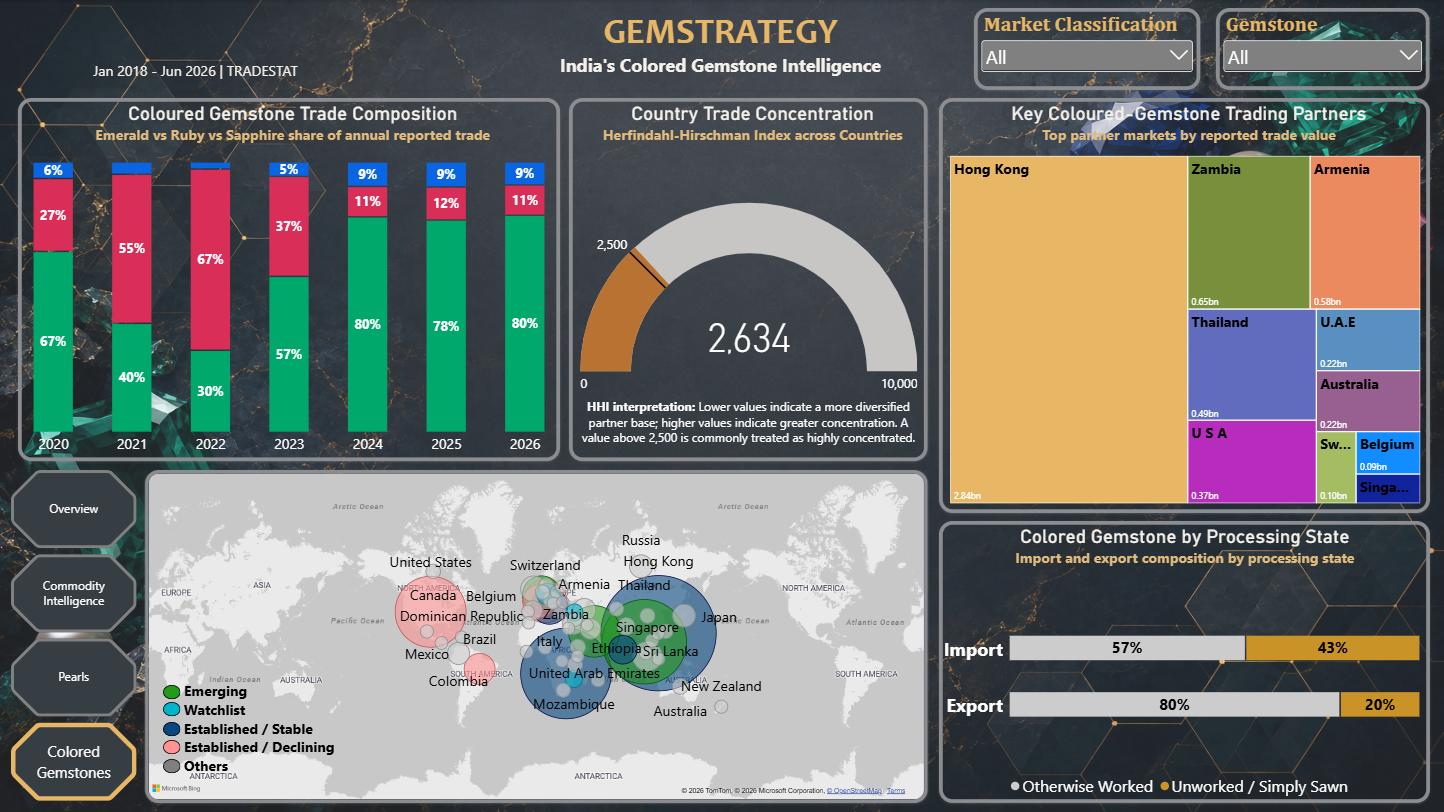

Layout of this report page (visuals, bound fields, positions):
{"tool":"powerbi","page":{"name":"Colored Gemstones","canvas":[1920,1080],"ordinal":3},"visuals":[{"type":"map","fields":{"Category":["Dim_Country.map_display_name"],"Size":["Measure.Market Value LY (Rolling 12M)"]},"box":[192.9,625.1,1041.4,442.9],"z":0},{"type":"textbox","box":[14.6,10.6,1887.3,109.1],"z":1000},{"type":"hundredPercentStackedColumnChart","title":"Coloured Gemstone Trade Composition","fields":{"Category":["Dim_Date.year"],"Series":["Dim_HS_Code.commodity_name"],"Y":["Measure.Trade Value (Partner Rows)"]},"box":[23.9,130.3,720.9,482.8],"z":2000},{"type":"textbox","box":[75.8,81.1,368.4,38.6],"z":3000},{"type":"pageNavigator","box":[14.6,625.1,167.6,442.9],"z":4000},{"type":"treemap","title":"Key Coloured-Gemstone Trading Partners","fields":{"Values":["Measure.Trade Value (Partner Rows)"],"Group":["Dim_Country.country_name"]},"box":[1248.9,130.3,653.1,552],"z":5000},{"type":"slicer","fields":{"Values":["Dim_HS_Code.commodity_name"]},"box":[1618,10.2,284.5,109.4],"z":6000},{"type":"hundredPercentStackedBarChart","title":"Colored Gemstone by Processing State","fields":{"Category":["Fact_Trade.trade_flow_key"],"Series":["Dim_HS_Code.worked_status"],"Y":["Measure.Trade Value (Partner Rows)"]},"box":[1248.9,693,653.1,375.1],"z":7000},{"type":"textbox","box":[239.4,905.8,215.5,138.3],"z":8000},{"type":"shape","box":[216.8,910.6,23.3,19],"z":9000},{"type":"shape","box":[217,934.3,23.3,19],"z":10000},{"type":"shape","box":[216.8,960.3,23.3,19],"z":11000},{"type":"shape","box":[216.8,984,23.3,19],"z":12000},{"type":"shape","box":[216.8,1009.1,23.3,19],"z":13000},{"type":"slicer","fields":{"Values":["Coloured Gemstone Market Opportunity.Market Classification"]},"box":[1295.6,10.2,300.5,109.4],"z":14000},{"type":"gauge","title":"Country Trade Concentration","fields":{"Y":["Measure.HHI (Country Concentration)"]},"box":[756.8,130.3,477.5,482.8],"z":15000},{"type":"textbox","box":[768.8,529.4,453.5,70.5],"z":16000}]}

Visuals, with their boxes in screenshot pixels (x1, y1, x2, y2), scaled from the page's 1920x1080 canvas onto the 1444x812 screenshot:
map - Dim_Country.map_display_name x Measure.Market Value LY (Rolling 12M): left=145, top=470, right=928, bottom=803
textbox: left=11, top=8, right=1430, bottom=90
"Coloured Gemstone Trade Composition" hundredPercentStackedColumnChart: left=18, top=98, right=560, bottom=461
textbox: left=57, top=61, right=334, bottom=90
pageNavigator: left=11, top=470, right=137, bottom=803
"Key Coloured-Gemstone Trading Partners" treemap: left=939, top=98, right=1430, bottom=513
slicer - Dim_HS_Code.commodity_name: left=1217, top=8, right=1431, bottom=90
"Colored Gemstone by Processing State" hundredPercentStackedBarChart: left=939, top=521, right=1430, bottom=803
textbox: left=180, top=681, right=342, bottom=785
shape: left=163, top=685, right=181, bottom=699
shape: left=163, top=702, right=181, bottom=717
shape: left=163, top=722, right=181, bottom=736
shape: left=163, top=740, right=181, bottom=754
shape: left=163, top=759, right=181, bottom=773
slicer - Coloured Gemstone Market Opportunity.Market Classification: left=974, top=8, right=1200, bottom=90
"Country Trade Concentration" gauge: left=569, top=98, right=928, bottom=461
textbox: left=578, top=398, right=919, bottom=451
